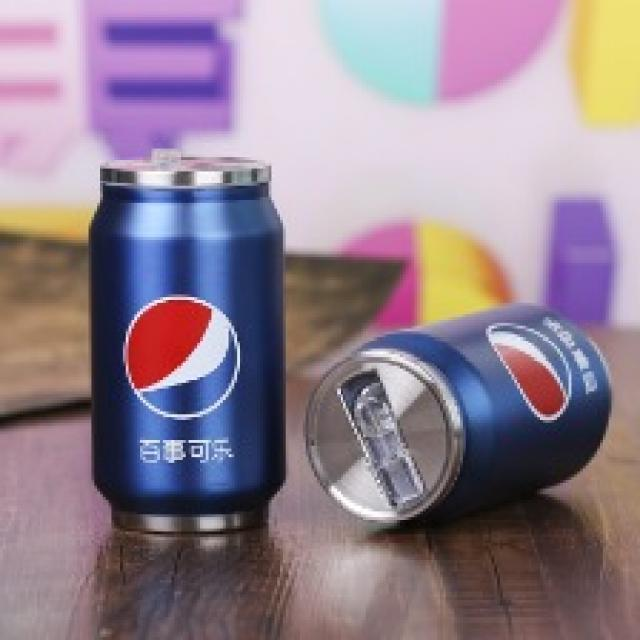metel: (82, 151, 288, 544), (308, 298, 618, 531)
